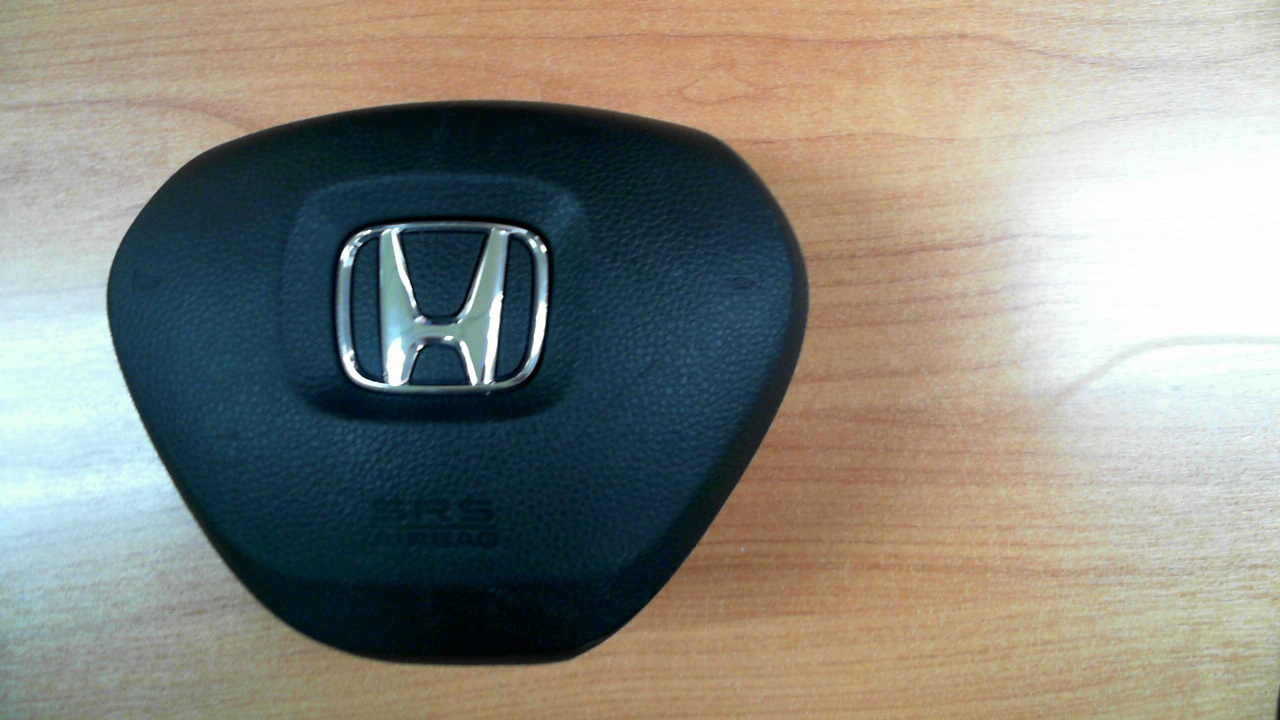Airbag: (105, 100, 809, 665)
Honda: (336, 220, 550, 396)
